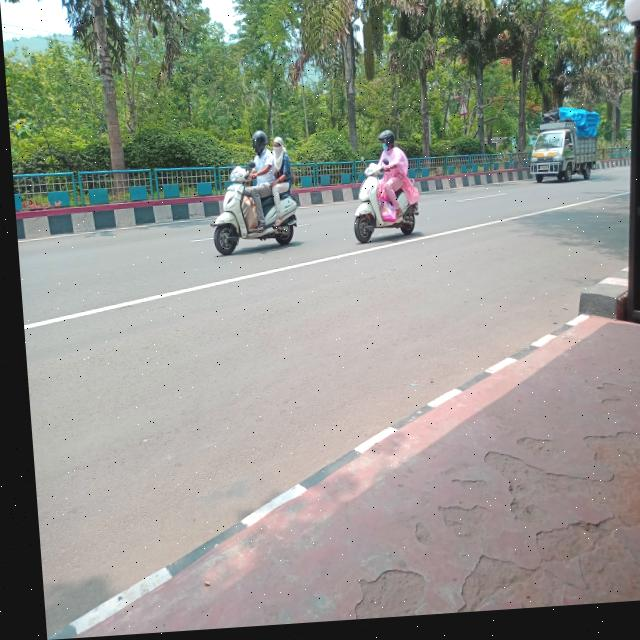bike: (189, 164, 305, 269), (345, 162, 441, 267)
car: (525, 140, 566, 189)
